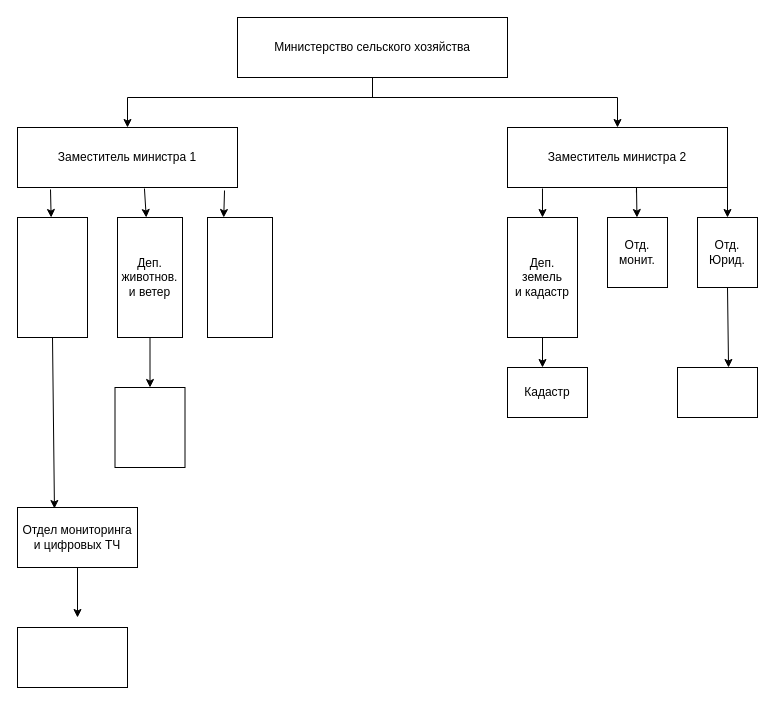
The diagram is 775 pixels wide and 705 high, and some of its shapes have lost their labels. Each missing label, with the centre of its shape:
"GIS / Данные" goes at point (72, 657).
"Бухгалтерия" goes at point (717, 392).
"Ветер. служба" goes at point (149, 427).
"Деп. раст- водств." goes at point (52, 277).
"Отд. Снаб." goes at point (239, 277).
